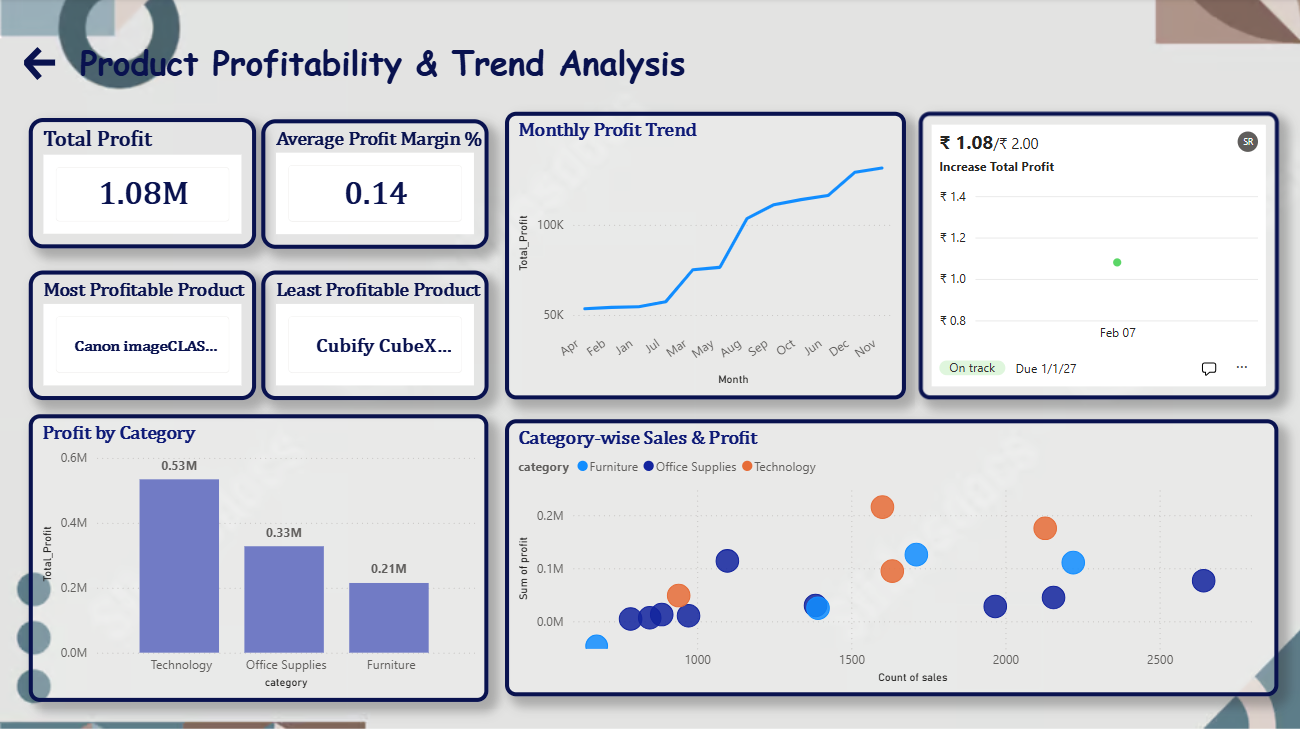

What the dashboard file says about the page in this screenshot:
{"tool":"powerbi","page":{"name":"Product Profitability & Trend Analysis","canvas":[1280,720],"ordinal":3},"visuals":[{"type":"textbox","box":[73.6,35.6,1181.6,58.9],"z":0},{"type":"actionButton","box":[19.6,44.2,54,40.5],"z":1000},{"type":"clusteredColumnChart","title":"Profit by Category","fields":{"Category":["Orders.category"],"Y":["Orders.Total_Profit"]},"box":[28.2,409,451.3,282.1],"z":2000},{"type":"lineChart","title":"Monthly Profit Trend","fields":{"Y":["Orders.Total_Profit"],"Category":["DateTable.Month"]},"box":[495.7,111.7,393.9,282.2],"z":3000},{"type":"cardVisual","title":"Total Profit","fields":{"Data":["Orders.Total_Profit"]},"box":[28.2,117.8,223.3,127.6],"z":4000},{"type":"cardVisual","title":"Most Profitable Product","fields":{"Data":["Orders.Most Profitable Product"]},"box":[28.2,267.9,223.1,126.9],"z":5000},{"type":"cardVisual","title":"Average Profit Margin %","fields":{"Data":["Orders.Average_Profit_Margin %"]},"box":[256.4,119.2,223.1,126.9],"z":6000},{"type":"cardVisual","title":"Least Profitable Product","fields":{"Data":["Orders.Least Profitable Product"]},"box":[256.4,267.9,223.1,126.9],"z":7000},{"type":"scatterChart","title":"Category-wise Sales & Profit","fields":{"Category":["Orders.sub_category"],"Y":["Sum(Orders.profit)"],"X":["CountNonNull(Orders.sales)"],"Size":["Count(Orders.quantity)"],"Series":["Orders.category"]},"box":[495.7,413.5,759.5,272.4],"z":8000},{"type":"scorecard","title":"Monthly Profit Trend","box":[901.8,111.7,353.4,282.2],"z":9000}]}

Visuals, with their boxes in screenshot pixels (x1, y1, x2, y2), scaled from the page's 1280x720 canvas onto the 1300x729 screenshot:
textbox: (75,36,1275,96)
actionButton: (20,45,75,86)
"Profit by Category" clusteredColumnChart: (29,414,487,700)
"Monthly Profit Trend" lineChart: (503,113,903,399)
"Total Profit" cardVisual: (29,119,255,248)
"Most Profitable Product" cardVisual: (29,271,255,400)
"Average Profit Margin %" cardVisual: (260,121,487,249)
"Least Profitable Product" cardVisual: (260,271,487,400)
"Category-wise Sales & Profit" scatterChart: (503,419,1275,694)
"Monthly Profit Trend" scorecard: (916,113,1275,399)
